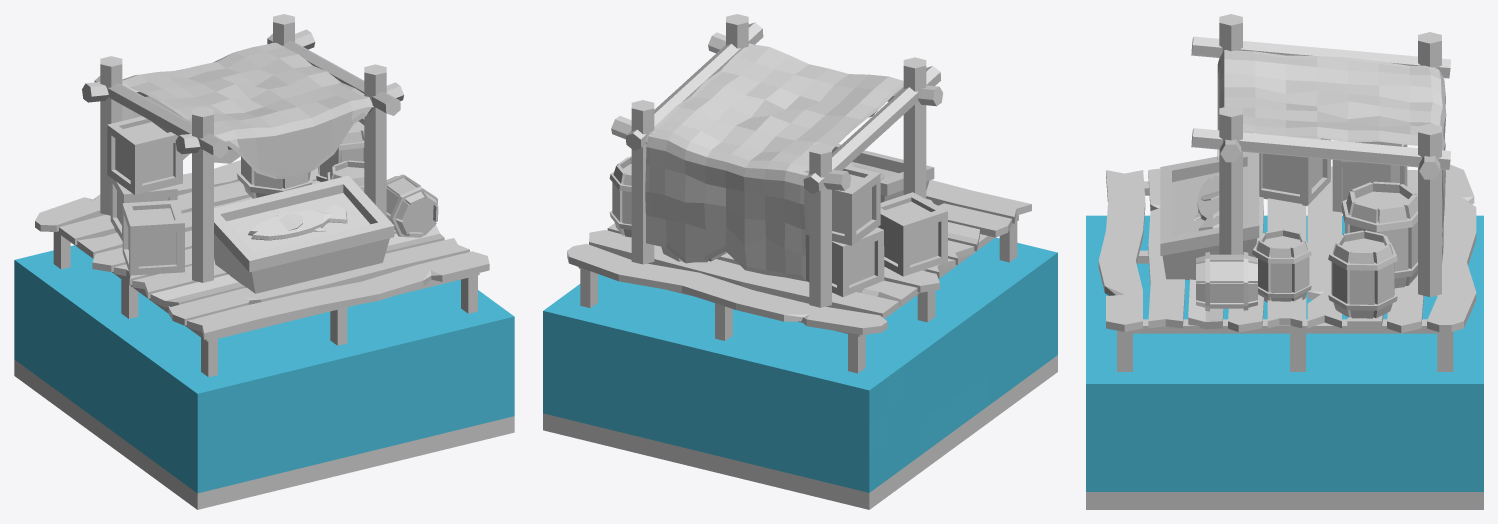
File: PortShop4.fbx
The picture shows the model from 3 angles, left to right: view 1: azimuth 30°, elevation 25°; view 2: azimuth 150°, elevation 25°; view 3: azimuth 270°, elevation 25°; orthographic projection. The views are drawn at different scales.
Visible parts, largest first — view 1: PortShop1.001; view 2: PortShop1.001; view 3: PortShop1.001.
Boxes of the visible parts, x1=… form: PortShop1.001: x1=14, y1=14, x2=514, y2=509; PortShop1.001: x1=543, y1=14, x2=1057, y2=509; PortShop1.001: x1=1086, y1=14, x2=1483, y2=509.
Size of the model in its own units: 2 by 2 by 2.
